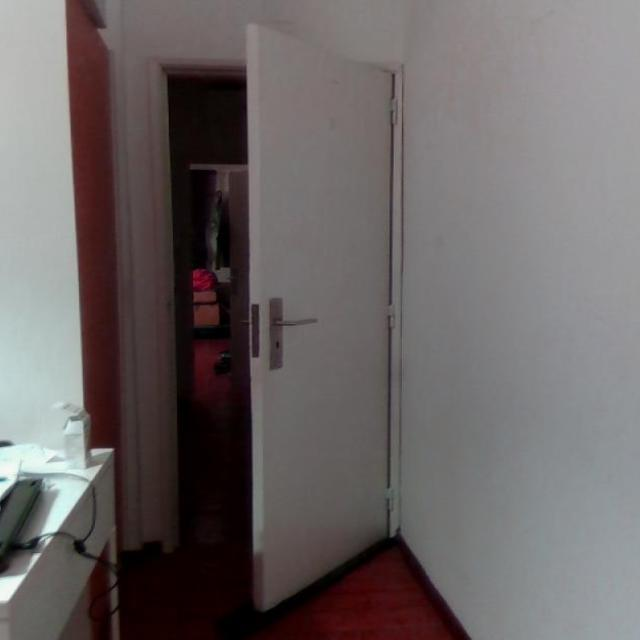door: (245, 22, 395, 611)
